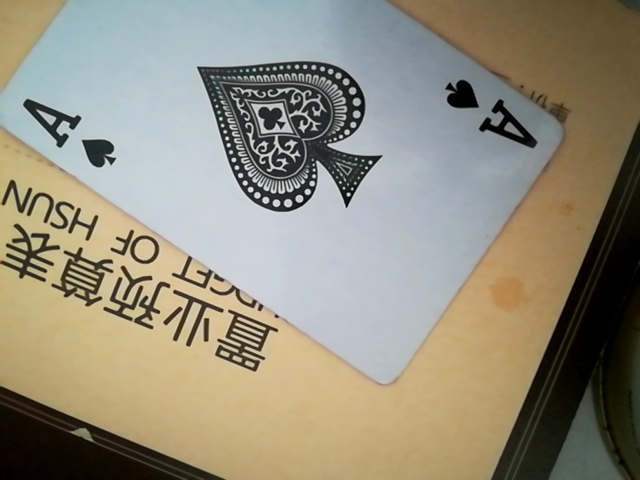ht a: (3, 2, 579, 385)
